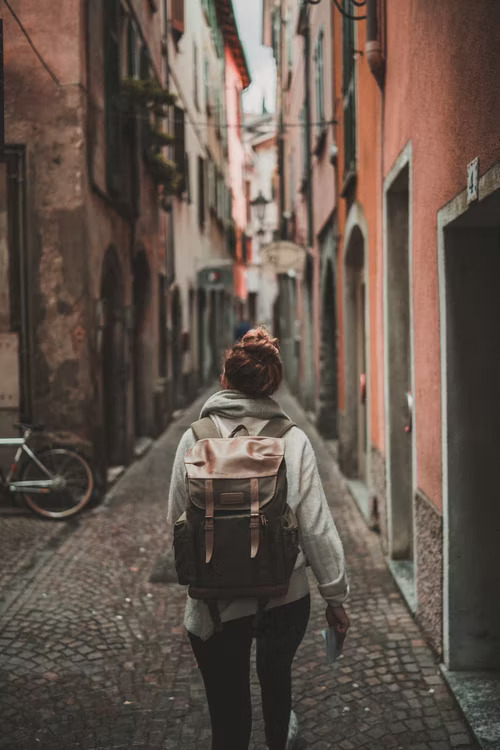person: (168, 331, 350, 747)
